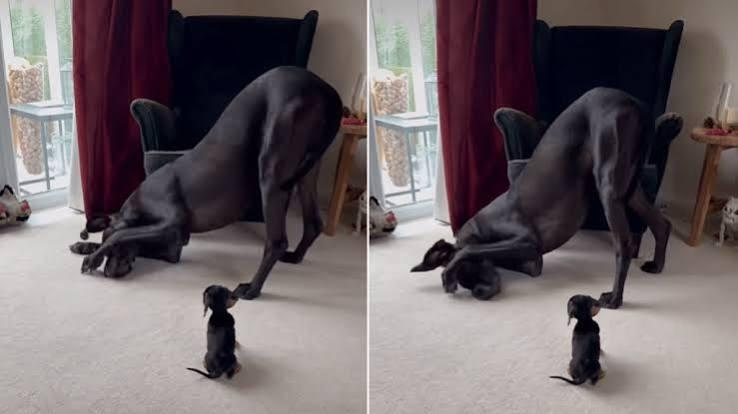adult_dog: (66, 64, 342, 306), (410, 87, 673, 310)
puppy-dog: (549, 293, 606, 387), (187, 283, 241, 380)
